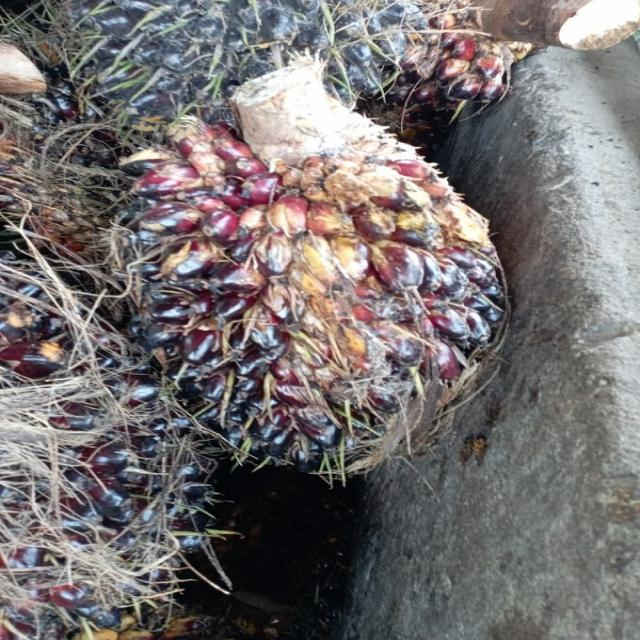fraksi 00: (100, 114, 516, 486)
